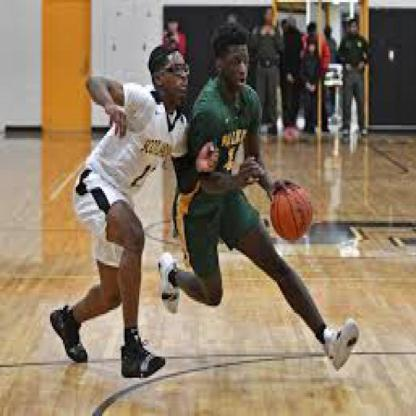basketball: (269, 182, 313, 242)
